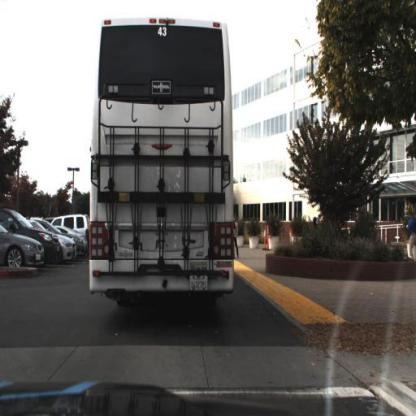car: (20, 210, 62, 269), (1, 223, 45, 270), (33, 226, 64, 267), (59, 212, 93, 240), (62, 231, 79, 269), (73, 235, 87, 260)
pedestrian: (404, 204, 416, 265), (406, 197, 416, 267), (310, 208, 327, 234), (408, 212, 416, 263), (234, 217, 242, 259)
truck: (88, 9, 242, 316)
